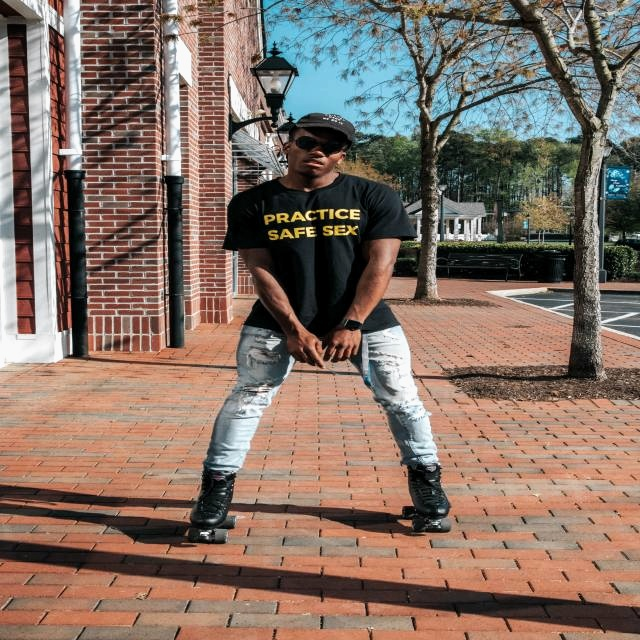ripped_pants: (204, 332, 447, 477)
